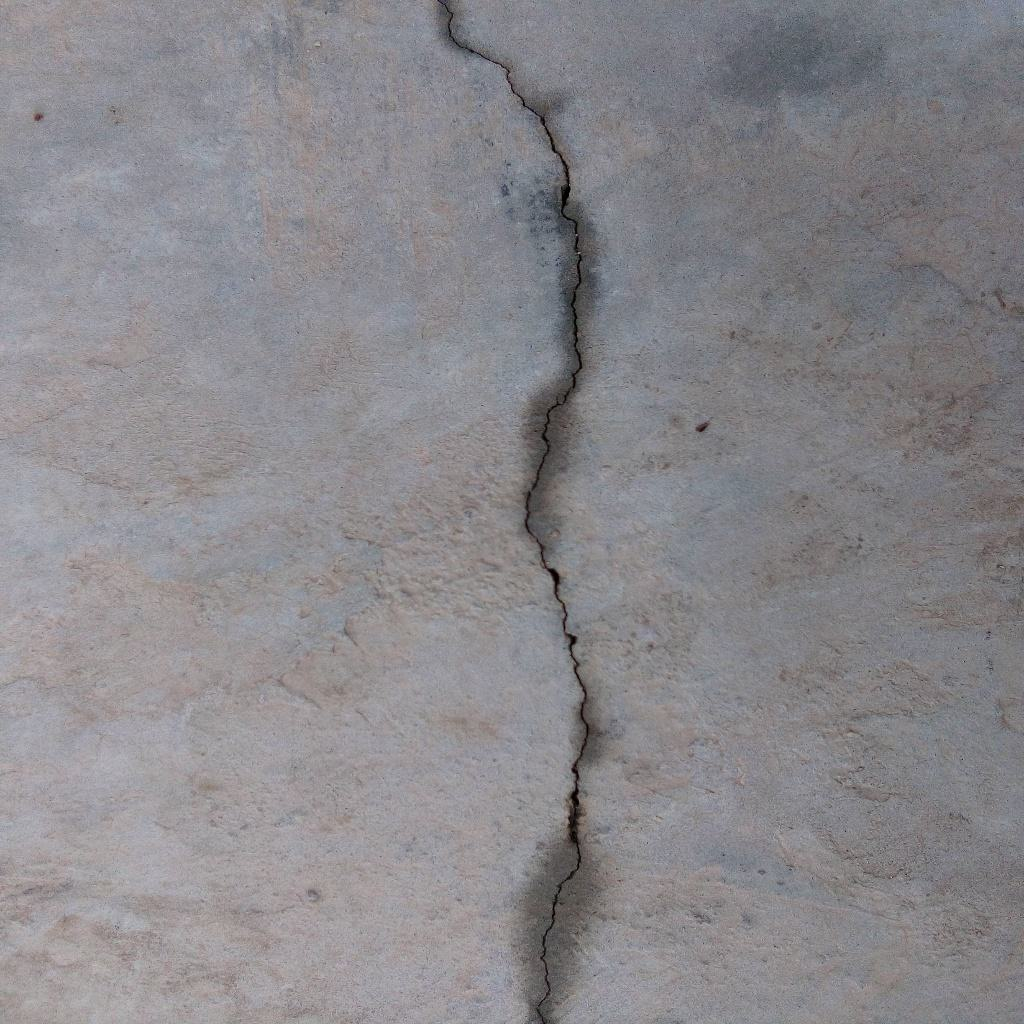Crack: (442, 1, 589, 1024)
